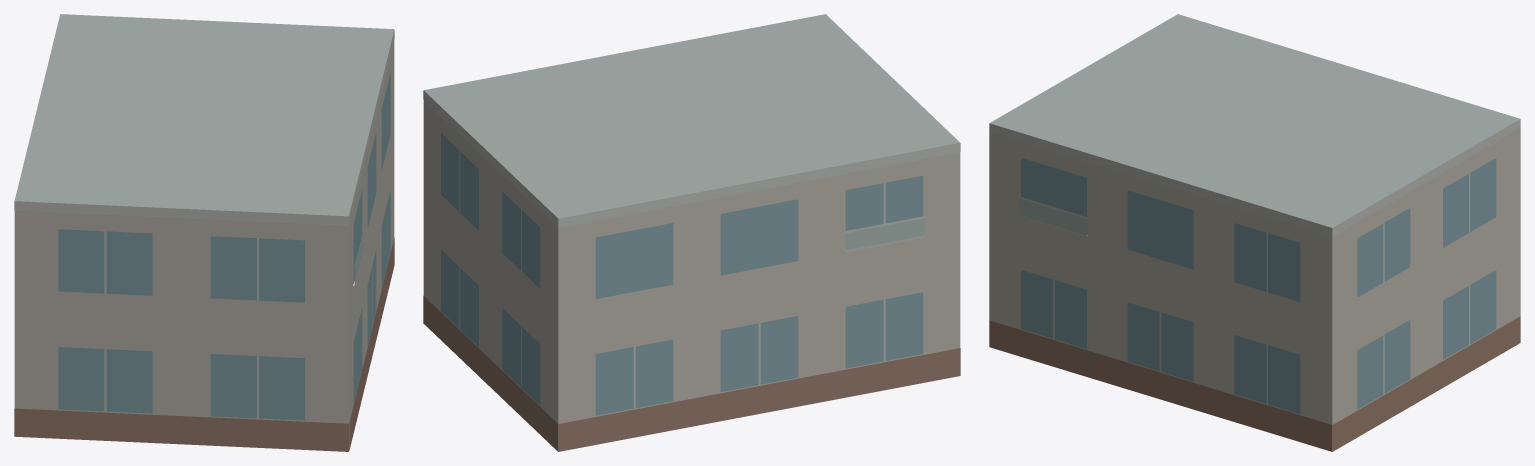
File: survey-upis-32914812.glb
3 views of the same model, side by side, from view 1: azimuth 30°, elevation 25°; view 2: azimuth 150°, elevation 25°; view 3: azimuth 270°, elevation 25° (orthographic). The views are drawn at different scales.
Visible parts, largest first — view 1: survey-upis-32914812.tmp; view 2: survey-upis-32914812.tmp; view 3: survey-upis-32914812.tmp.
Boxes of the visible parts, x1=… form: survey-upis-32914812.tmp: x1=14, y1=14, x2=394, y2=451; survey-upis-32914812.tmp: x1=423, y1=14, x2=960, y2=451; survey-upis-32914812.tmp: x1=989, y1=14, x2=1520, y2=451.
Size of the model in its own units: 12.51 by 6.1 by 13.13.
